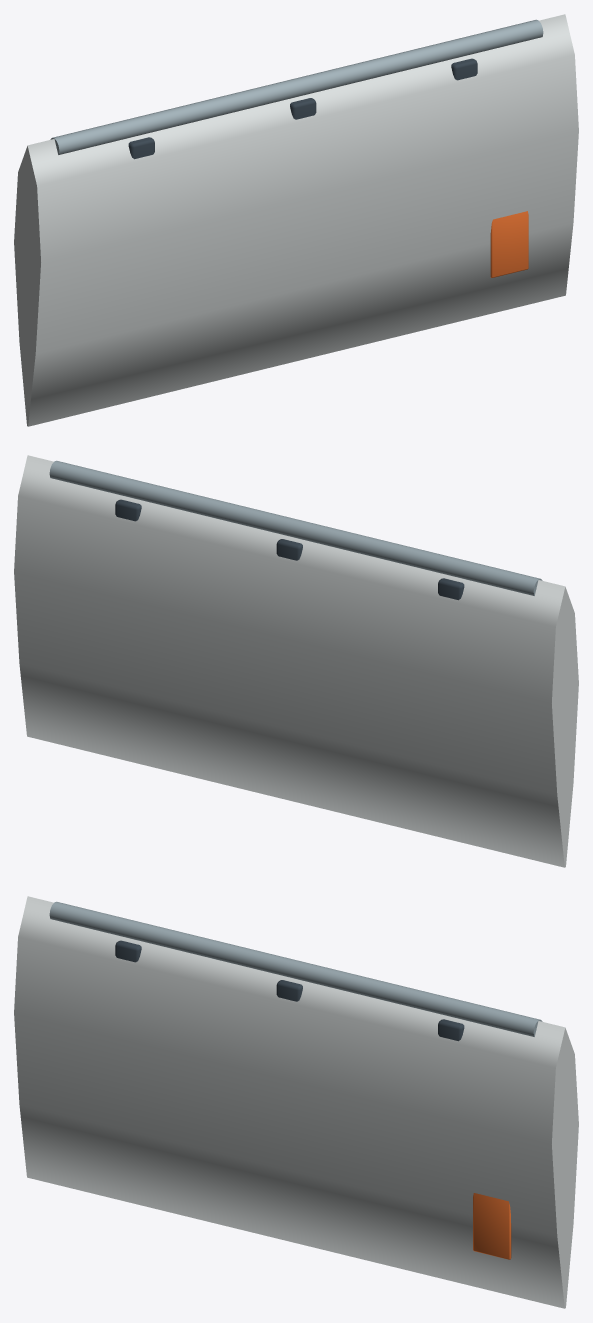
The model's file is rudder.glb.
3 renders of one model, top to bottom at view 1: azimuth 30°, elevation 25°; view 2: azimuth 150°, elevation 25°; view 3: azimuth 330°, elevation 25°, orthographic.
Visible parts, largest first — view 1: rudder aerodynamic shell; view 2: rudder aerodynamic shell; view 3: rudder aerodynamic shell.
Part boxes in pixels (x1=…): rudder aerodynamic shell: x1=14, y1=14, x2=578, y2=426; rudder aerodynamic shell: x1=14, y1=455, x2=578, y2=867; rudder aerodynamic shell: x1=14, y1=896, x2=578, y2=1308.
Bounding box in the file's own units: 0.8 × 0.4 × 0.07.
